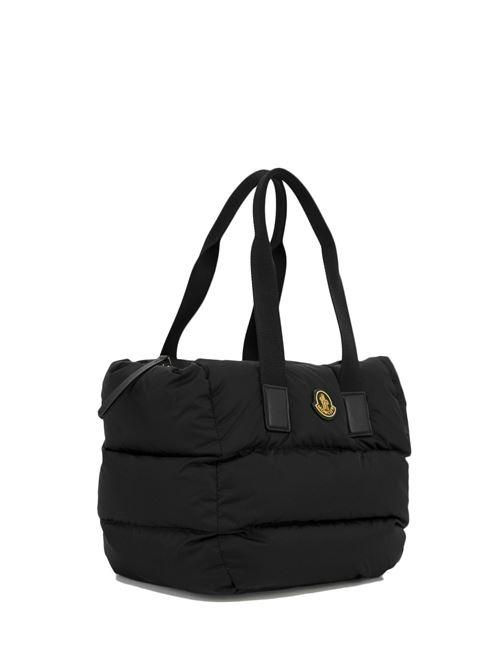MONCLER: (311, 387, 338, 421)
